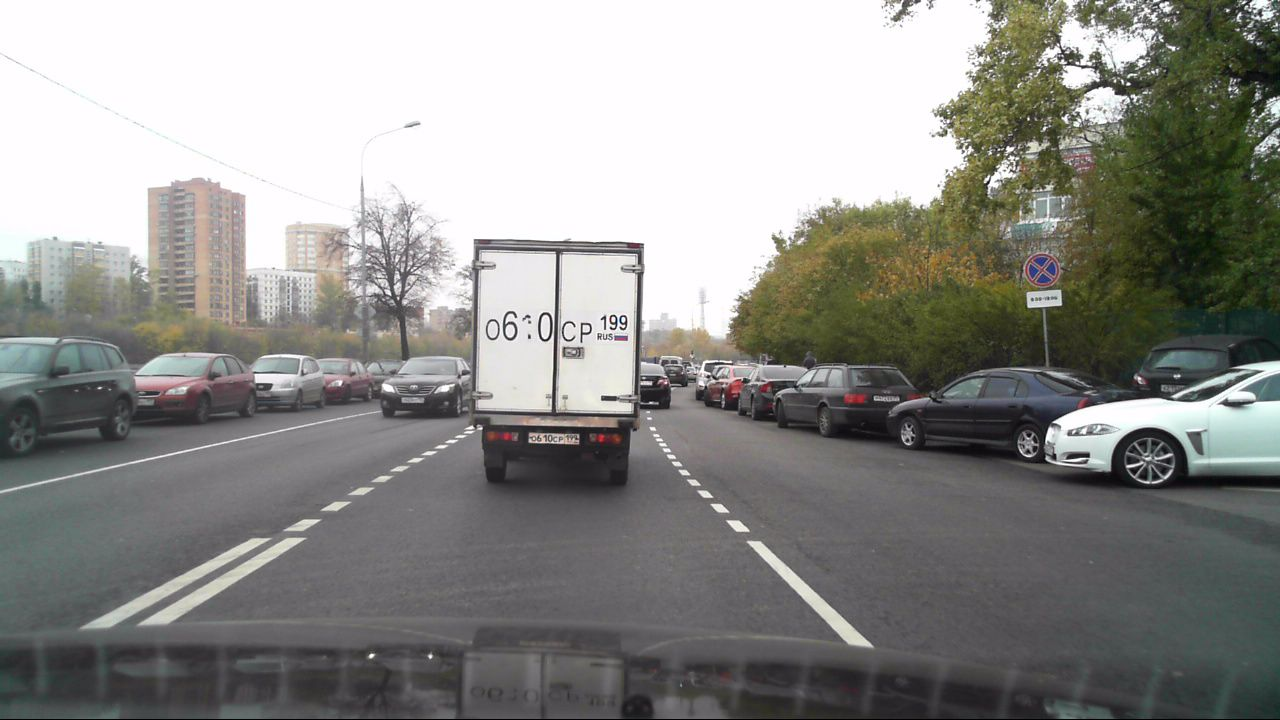No Parking: (1024, 251, 1060, 288)
